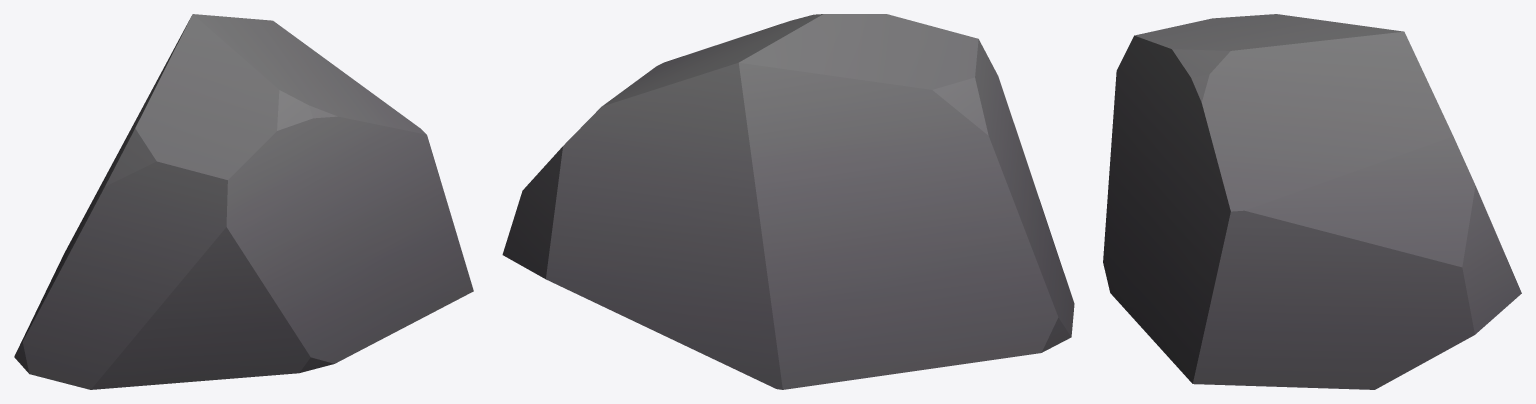
The model's file is SM_Nature_BigRock_02.fbx.
3 views of the same model, side by side, from view 1: azimuth 30°, elevation 25°; view 2: azimuth 150°, elevation 25°; view 3: azimuth 270°, elevation 25° (orthographic). The views are drawn at different scales.
Visible parts, largest first — view 1: SM_Nature_BigRock_02; view 2: SM_Nature_BigRock_02; view 3: SM_Nature_BigRock_02.
Boxes of the visible parts, bbox=[...] form: SM_Nature_BigRock_02: bbox=[14, 14, 473, 389]; SM_Nature_BigRock_02: bbox=[502, 14, 1074, 389]; SM_Nature_BigRock_02: bbox=[1103, 14, 1521, 389].
Size of the model in its own units: 10.15 by 5.7 by 8.24.
